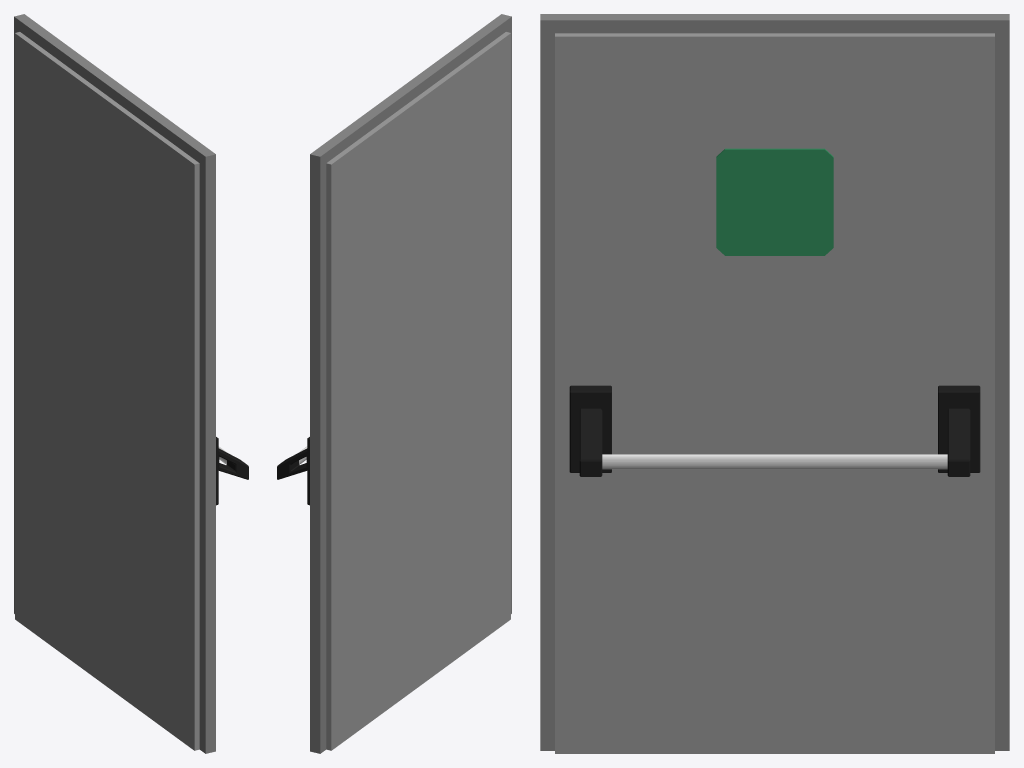
Rendered from Porta v1.fbx.
The picture shows the model from 3 angles, left to right: view 1: azimuth 30°, elevation 25°; view 2: azimuth 150°, elevation 25°; view 3: azimuth 270°, elevation 25°; orthographic projection. The views are drawn at different scales.
Parts seen in each view (by area): view 1: Porta, Cornice, Plane; view 2: Porta, Cornice, Plane.003; view 3: Porta, Cornice, Cartello, Maniglia, Attacco sx, Attacco dx, Plane, Plane.003.
Boxes of the visible parts, x1=… form: Porta: x1=15, y1=32, x2=199, y2=750; Cornice: x1=14, y1=14, x2=215, y2=753; Plane: x1=218, y1=448, x2=248, y2=479; Porta: x1=326, y1=32, x2=510, y2=750; Cornice: x1=310, y1=14, x2=511, y2=753; Plane.003: x1=277, y1=448, x2=307, y2=479; Porta: x1=555, y1=33, x2=994, y2=753; Cornice: x1=540, y1=14, x2=1009, y2=750; Cartello: x1=716, y1=148, x2=833, y2=255; Maniglia: x1=602, y1=454, x2=947, y2=469; Attacco sx: x1=569, y1=385, x2=611, y2=472; Attacco dx: x1=938, y1=385, x2=980, y2=472; Plane: x1=579, y1=408, x2=602, y2=476; Plane.003: x1=947, y1=408, x2=970, y2=476.
Bounding box in the file's own units: 31.3 × 275 × 160.
